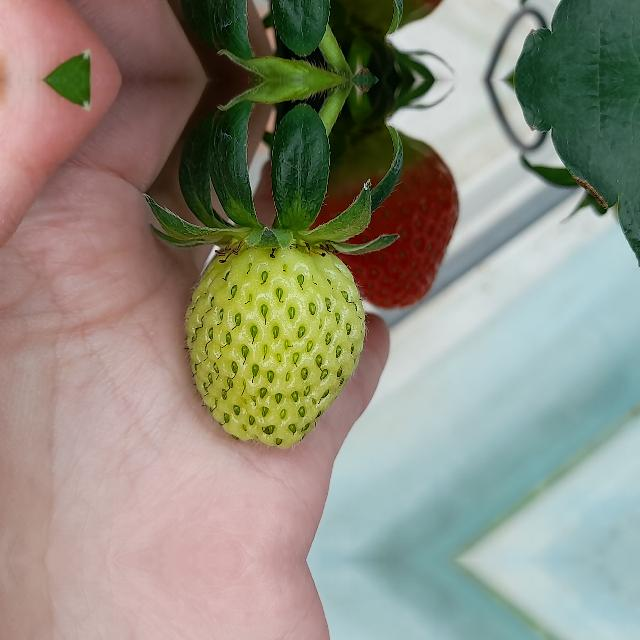Health_25: (185, 246, 365, 448)
